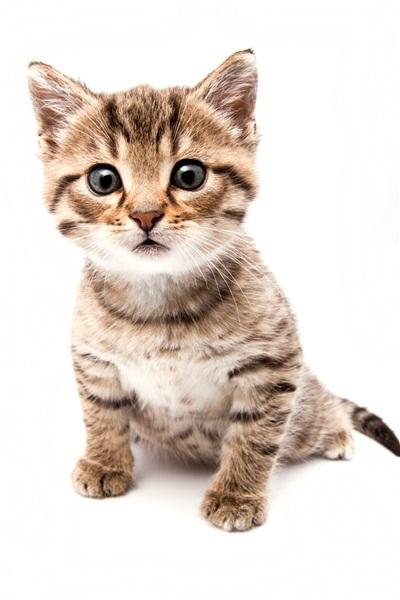cat: (25, 49, 357, 533)
